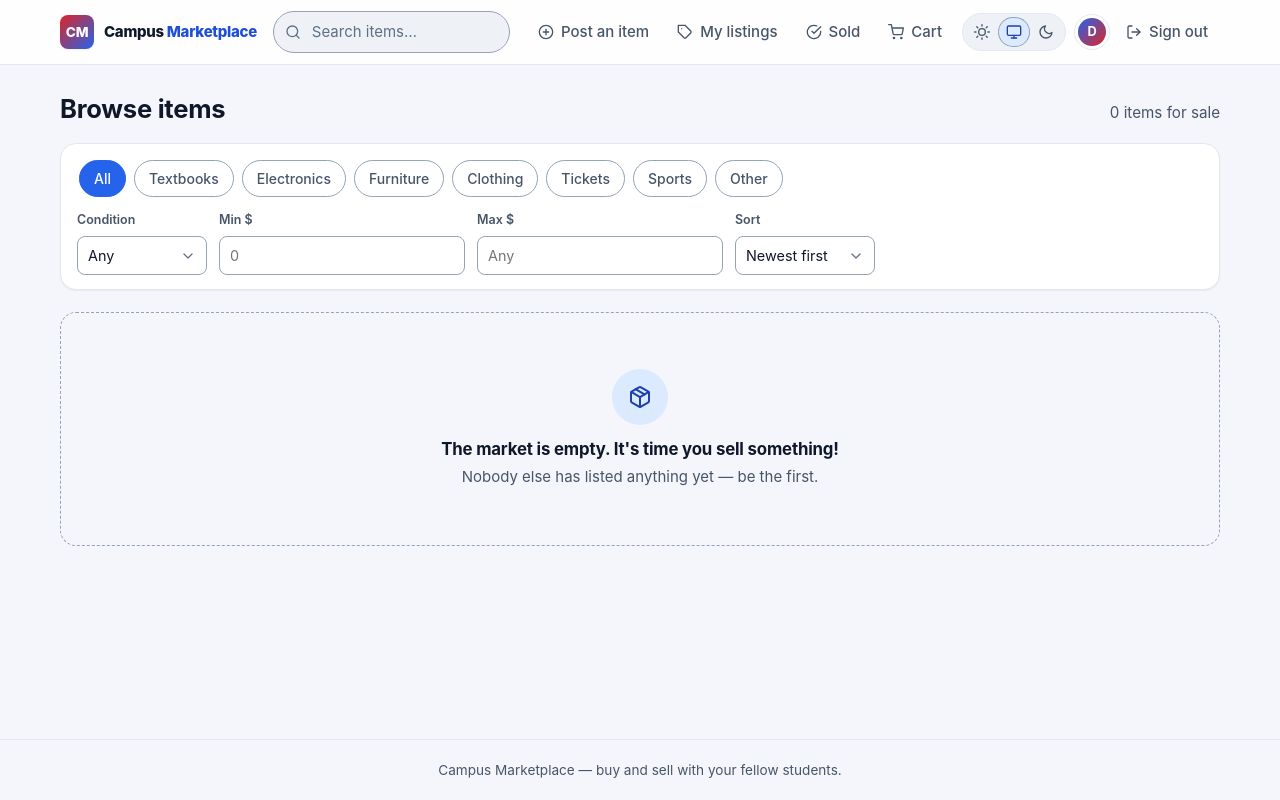
signing out returns to the sign-in page and clears the session
Expected: the heading "The market is empty. It's time you sell something!" is shown, x1=441 y1=439 x2=839 y2=459
Click the button "Sign out". click: (1167, 32)
box: x1=1114 y1=13 x2=1220 y2=51
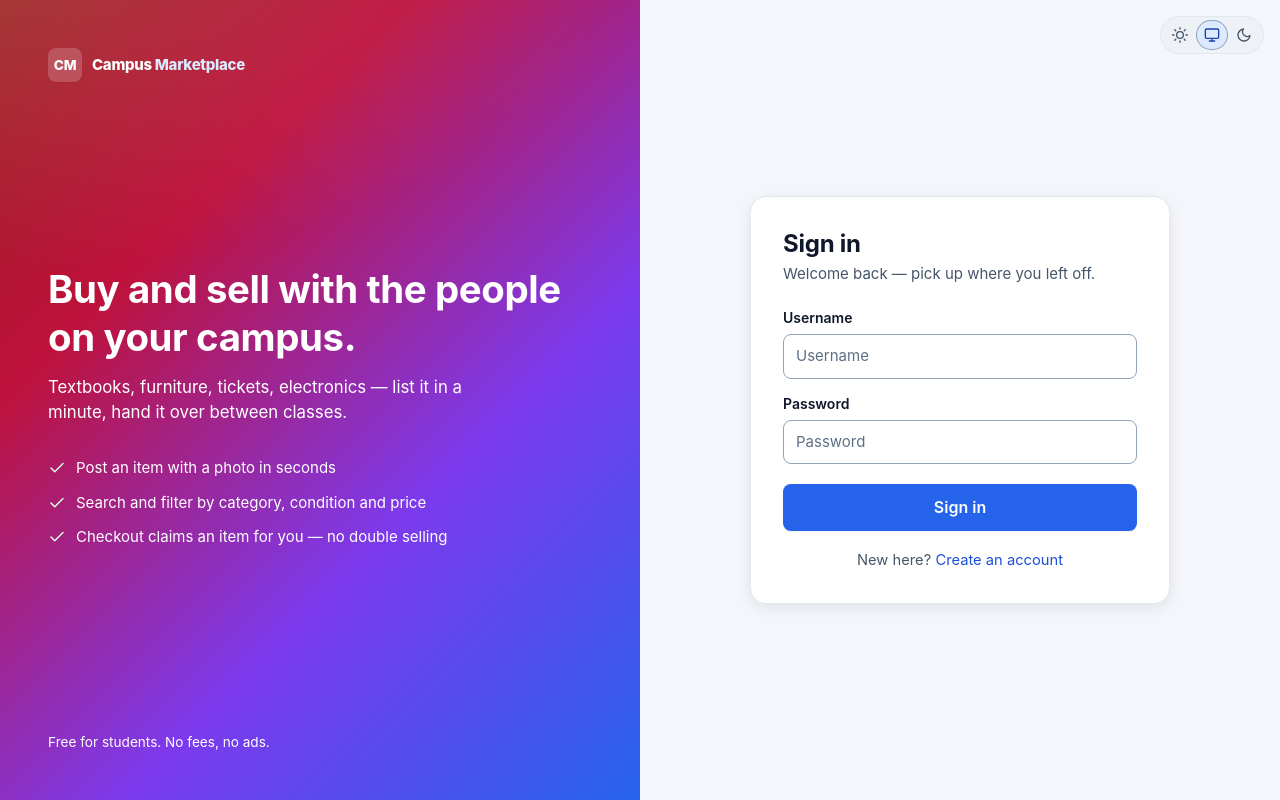
Expected: the heading "Sign in" is shown, x1=783 y1=229 x2=861 y2=258
